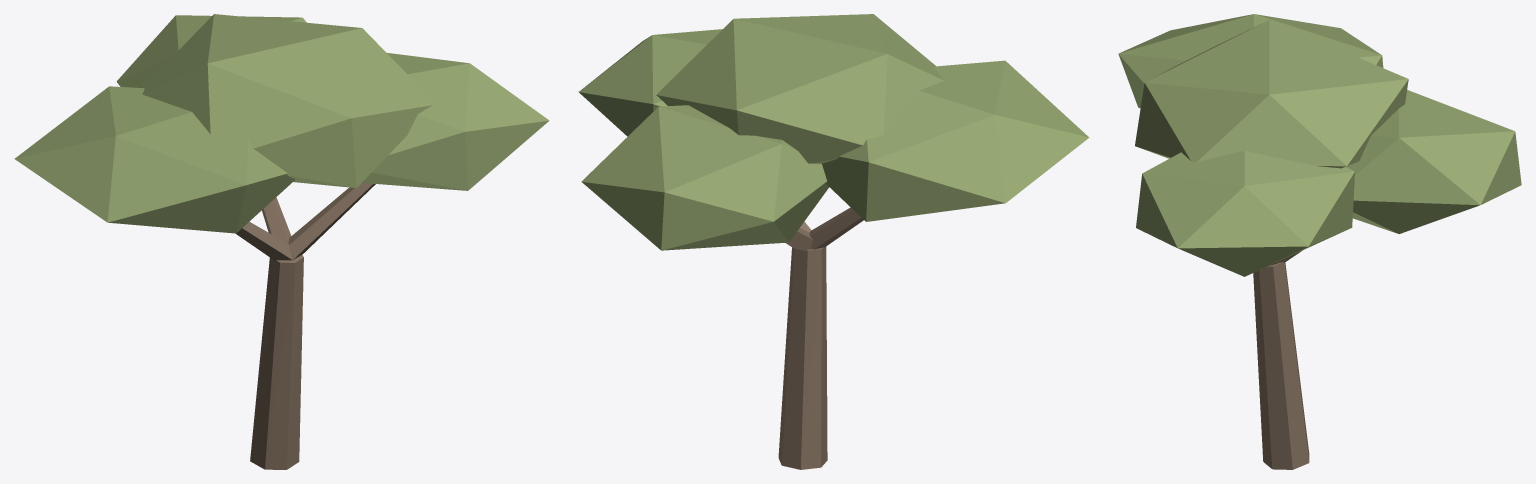
The model's file is env_algarrobos.glb.
3 views of the same model, side by side, from view 1: azimuth 30°, elevation 25°; view 2: azimuth 150°, elevation 25°; view 3: azimuth 270°, elevation 25° (orthographic). The views are drawn at different scales.
Visible parts, largest first — view 1: algarrobos; view 2: algarrobos; view 3: algarrobos.
Part boxes in pixels (x1,y1,x2,y2): algarrobos: (14,14,549,469); algarrobos: (579,14,1089,469); algarrobos: (1118,14,1521,469).
Size of the model in its own units: 5.33 by 4.78 by 4.31.
